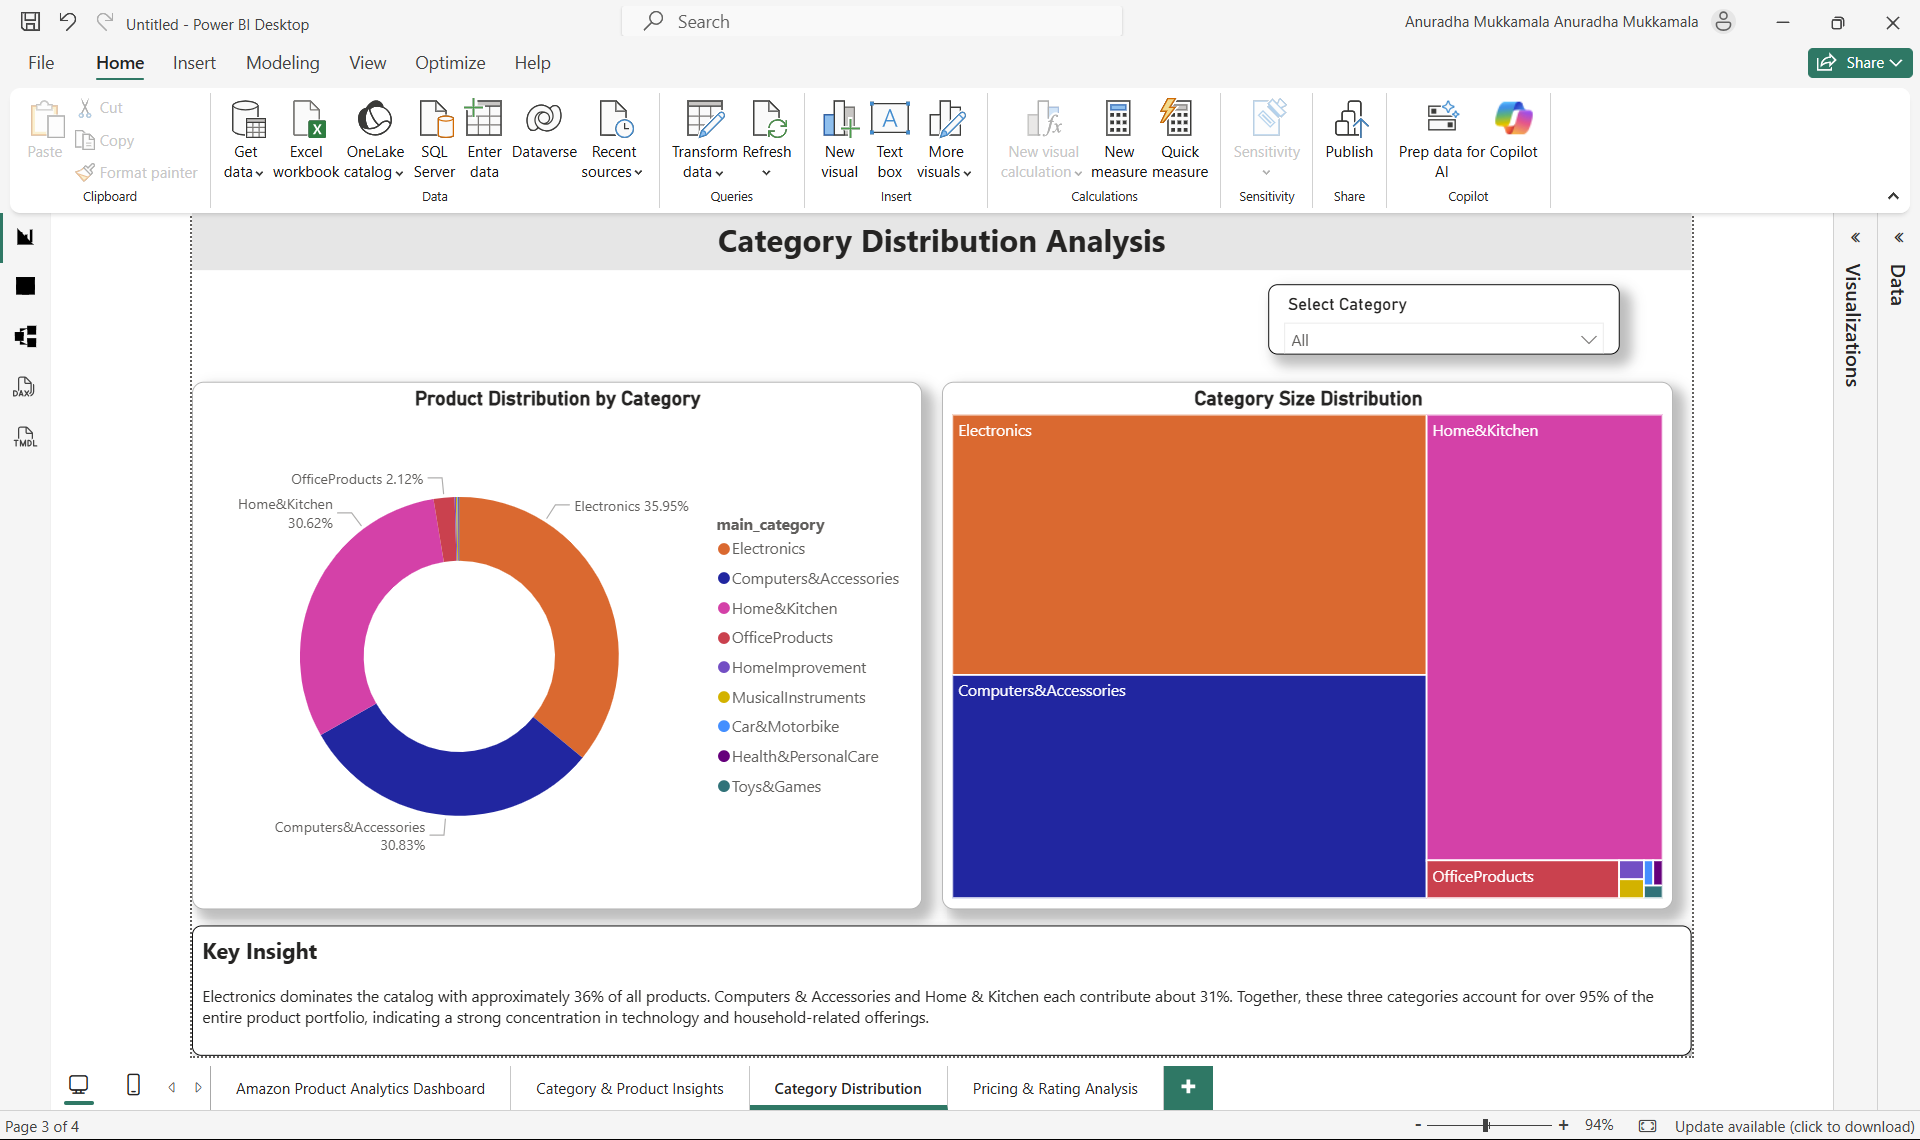

The page's visual inventory and layout, read from the dashboard file:
{"tool":"powerbi","page":{"name":"Category Distribution","canvas":[1280,720],"ordinal":2},"visuals":[{"type":"donutChart","title":"Product Distribution by Category","fields":{"Category":["amazon_dataset_final_cleaned.main_category"],"Y":["CountNonNull(amazon_dataset_final_cleaned.product_id)"]},"box":[0,144.3,622.9,450],"z":0},{"type":"treemap","title":"Category Size Distribution","fields":{"Group":["amazon_dataset_final_cleaned.main_category"],"Values":["CountNonNull(amazon_dataset_final_cleaned.product_id)"]},"box":[640,144.3,624.3,450],"z":1000},{"type":"textbox","box":[0,608.6,1280,111.4],"z":2000},{"type":"slicer","fields":{"Values":["amazon_dataset_final_cleaned.main_category"]},"box":[918.7,60.8,299.8,59.8],"z":3000},{"type":"textbox","box":[0,0,1280,48.6],"z":4000}]}

Visuals, with their boxes on the page's 1280x720 design canvas (x1, y1, x2, y2). These are canvas units, not pixel positions in the 1920x1140 screenshot, which may show the page scaled, cropped or inside an application window:
"Product Distribution by Category" donutChart: (0, 144, 623, 594)
"Category Size Distribution" treemap: (640, 144, 1264, 594)
textbox: (0, 609, 1280, 720)
slicer - amazon_dataset_final_cleaned.main_category: (919, 61, 1218, 121)
textbox: (0, 0, 1280, 49)
